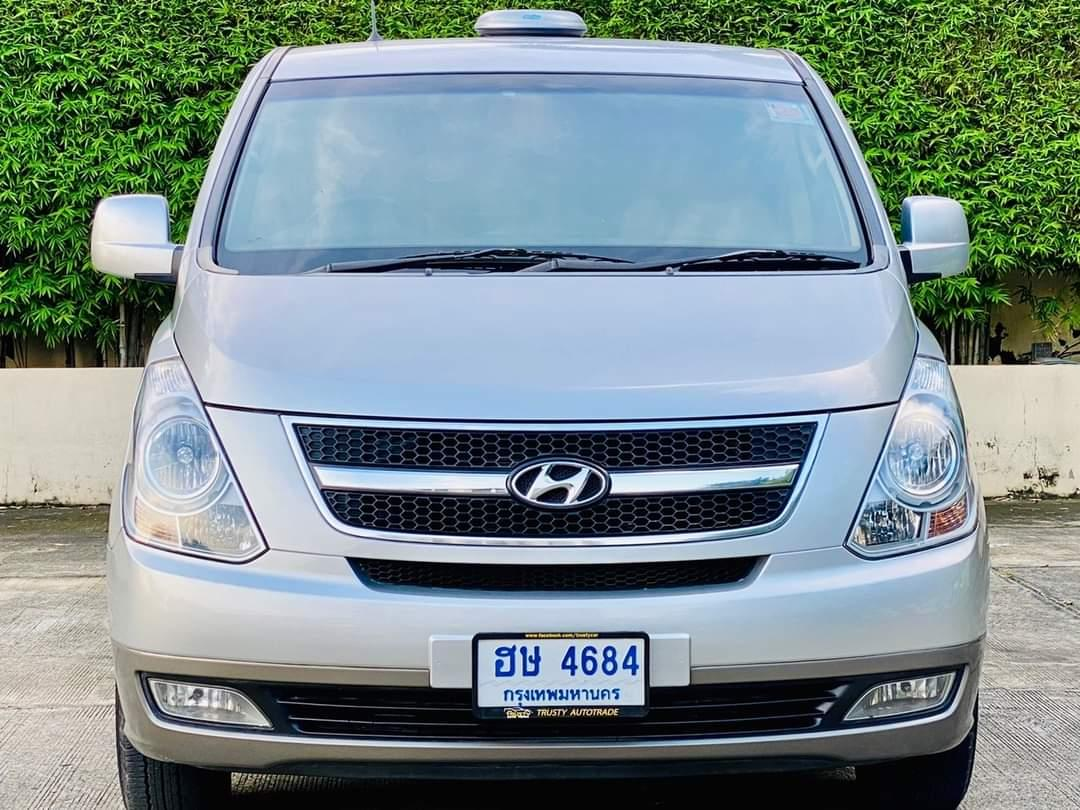license-plate: (469, 627, 652, 726)
